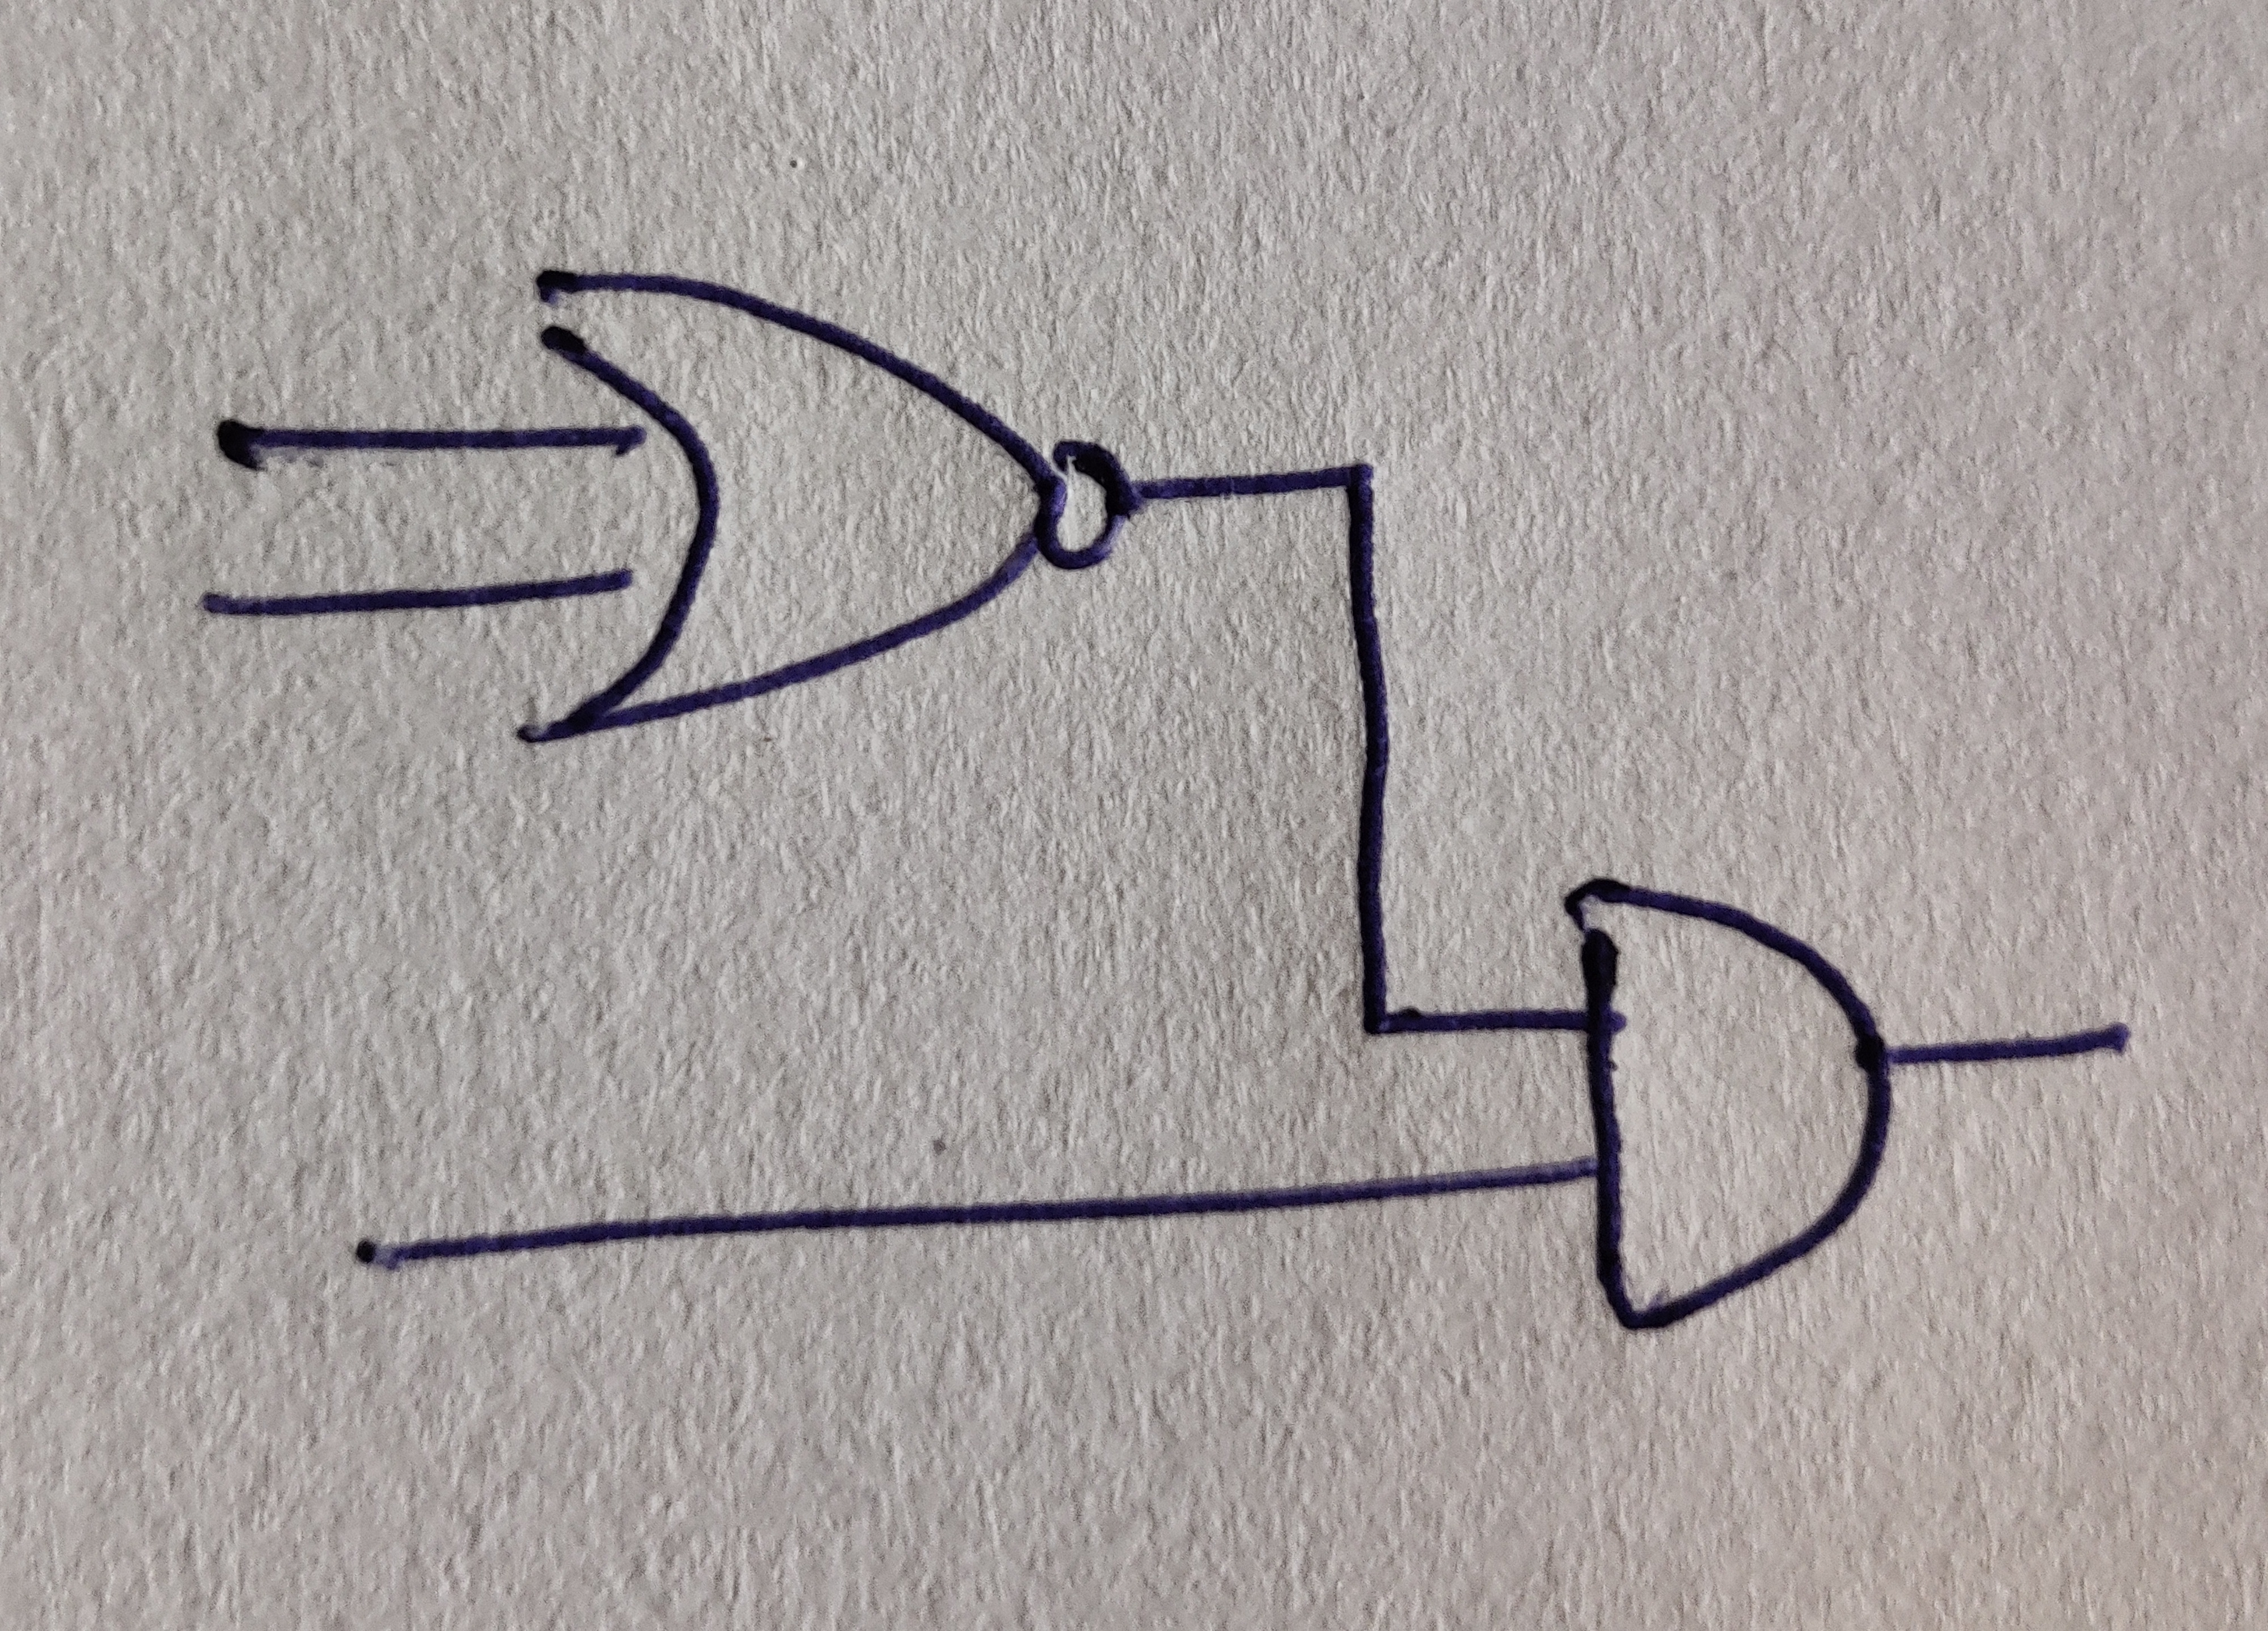and: (1565, 881, 1893, 1330)
not: (1042, 440, 1130, 572)
or: (516, 269, 1065, 743)
